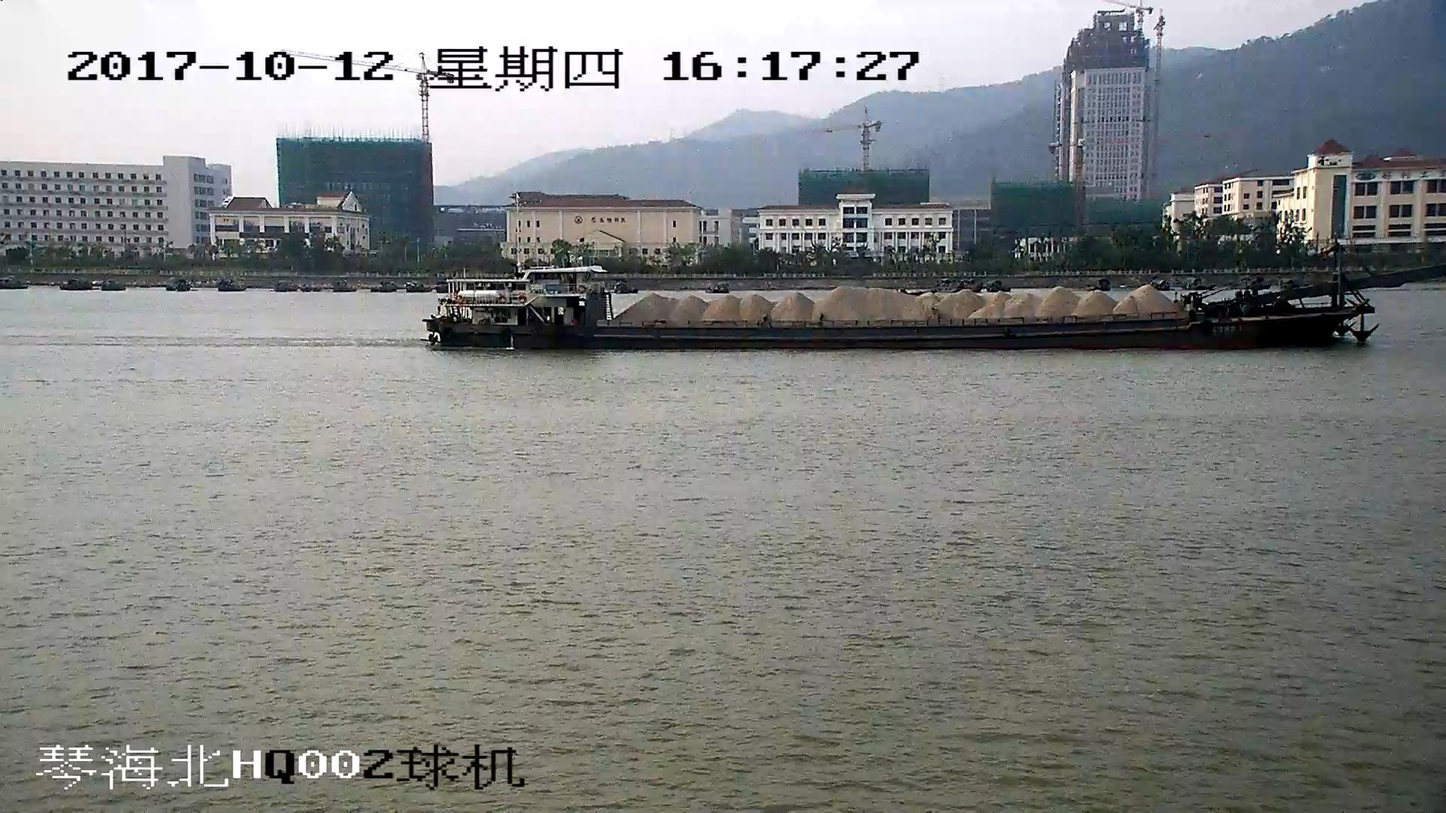ore carrier: (430, 240, 1445, 347)
